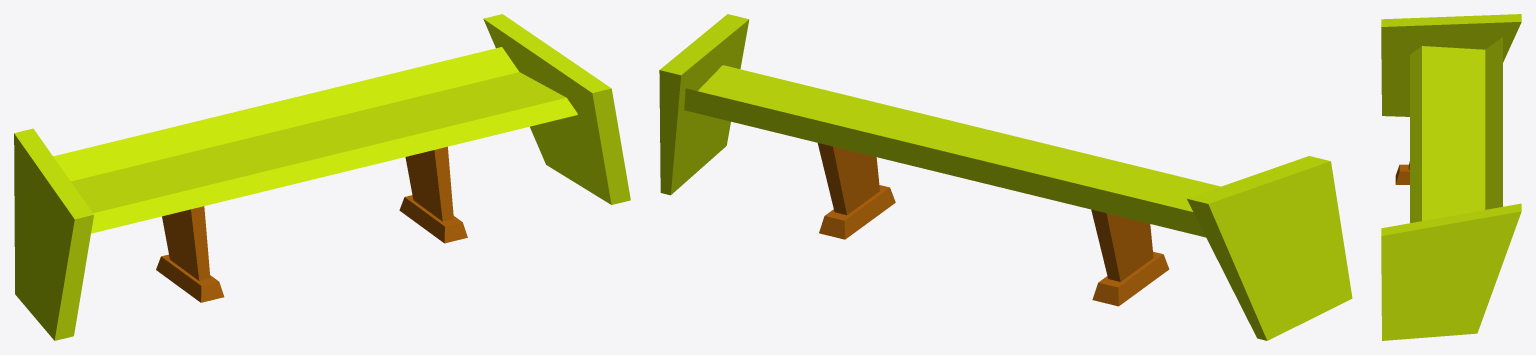
The model's file is Spoiler11_ColorCoded.fbx.
The picture shows the model from 3 angles, left to right: view 1: azimuth 30°, elevation 25°; view 2: azimuth 150°, elevation 25°; view 3: azimuth 270°, elevation 25°; orthographic projection. The views are drawn at different scales.
Parts seen in each view (by area): view 1: Spoiler11; view 2: Spoiler11; view 3: Spoiler11.
Boxes of the visible parts, x1,y1,x2,y2 form: Spoiler11: [14, 14, 630, 340]; Spoiler11: [659, 14, 1352, 340]; Spoiler11: [1381, 14, 1521, 340].
Bounding box in the file's own units: 44.26 × 11.3 × 10.35.
